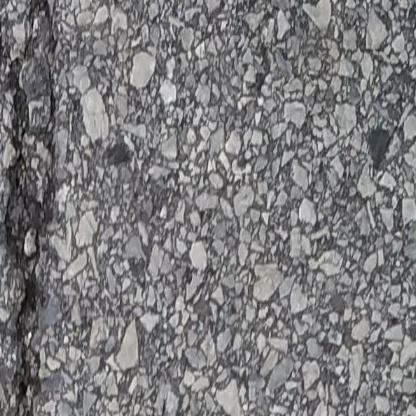Cracks: (0, 0, 63, 416)
